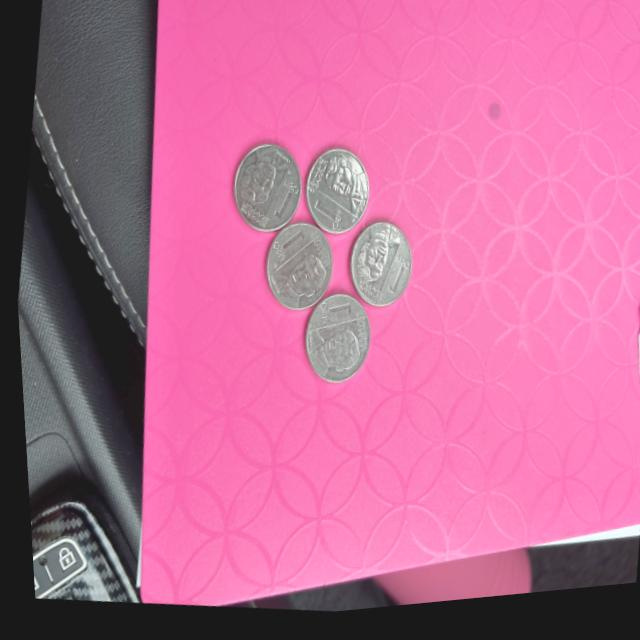1_New_Front: (300, 200, 347, 239), (376, 259, 405, 315), (265, 181, 298, 229), (309, 303, 352, 334), (263, 232, 293, 271)
